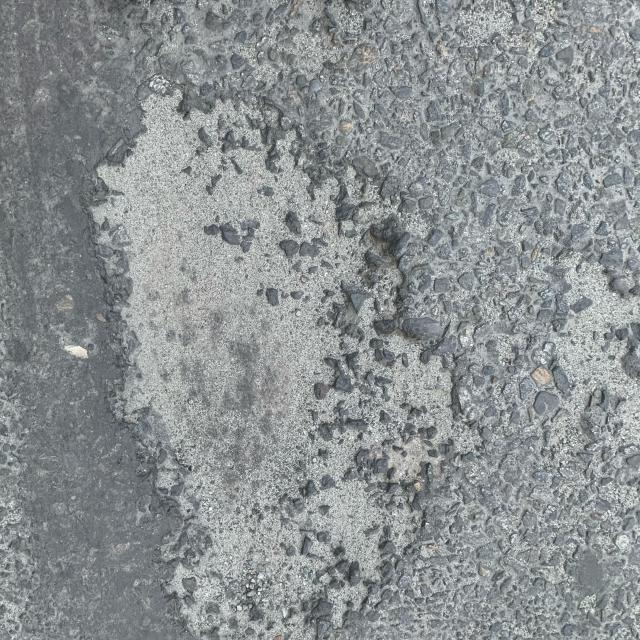unexpected: (2, 3, 640, 633)
